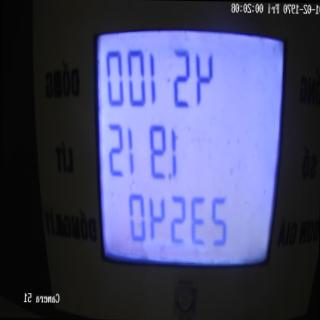screen: (84, 3, 291, 298)
